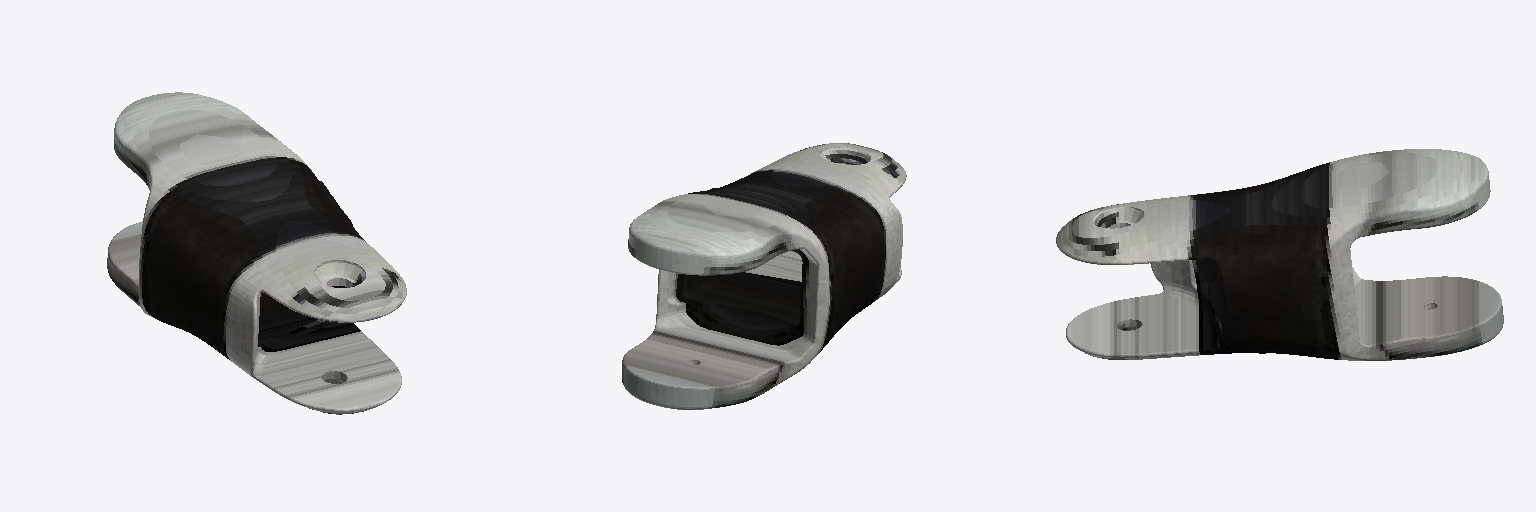
3 renders of one model, left to right at view 1: azimuth 30°, elevation 25°; view 2: azimuth 150°, elevation 25°; view 3: azimuth 270°, elevation 25°, orthographic.
Parts seen in each view (by area): view 1: Index_Proximal_Index_Proximal.001; view 2: Index_Proximal_Index_Proximal.001; view 3: Index_Proximal_Index_Proximal.001.
Part boxes in pixels (bbox=[...]): Index_Proximal_Index_Proximal.001: bbox=[107, 92, 406, 414]; Index_Proximal_Index_Proximal.001: bbox=[622, 143, 906, 409]; Index_Proximal_Index_Proximal.001: bbox=[1056, 149, 1503, 360].
Bounding box in the file's own units: 0.0233 × 0.022 × 0.0509.
1 materials, 1 textured.